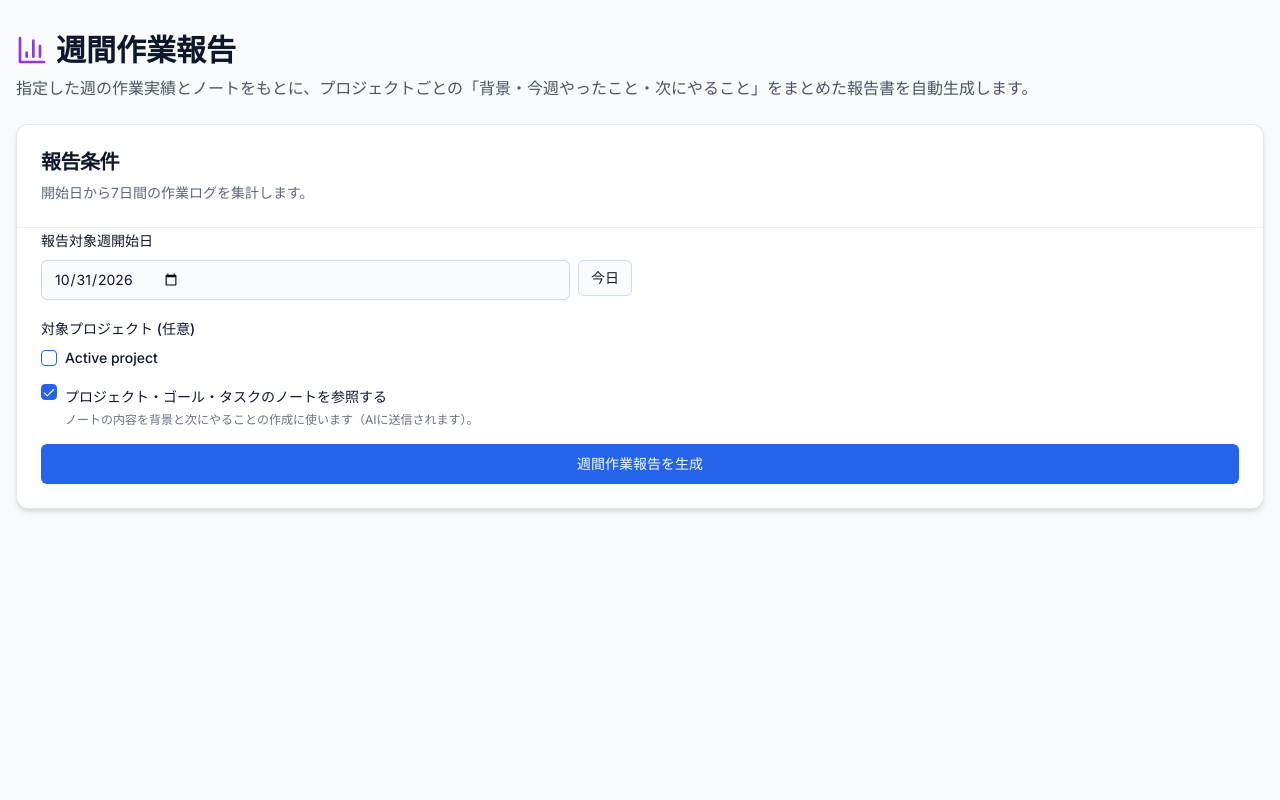
Test case: weekly report page › generates a report for the chosen week and in-progress projects
The image size is (1280, 800).
Step 1. Type "2030-01-07" into the date field labelled "報告対象週開始日" → (306, 280), box [41,260,570,300]
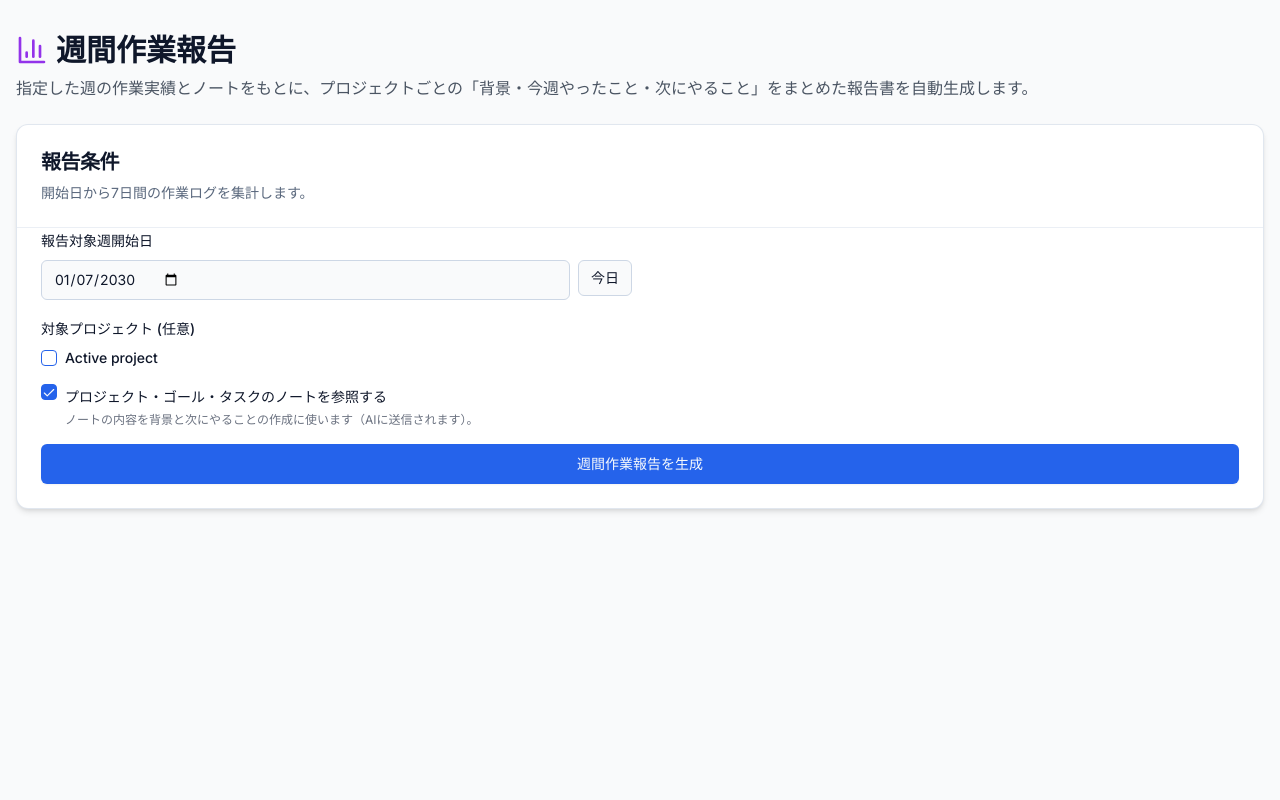
Step 2. Click the checkbox named "Active project" next to "Active project" → (49, 358), box [41,350,57,366]
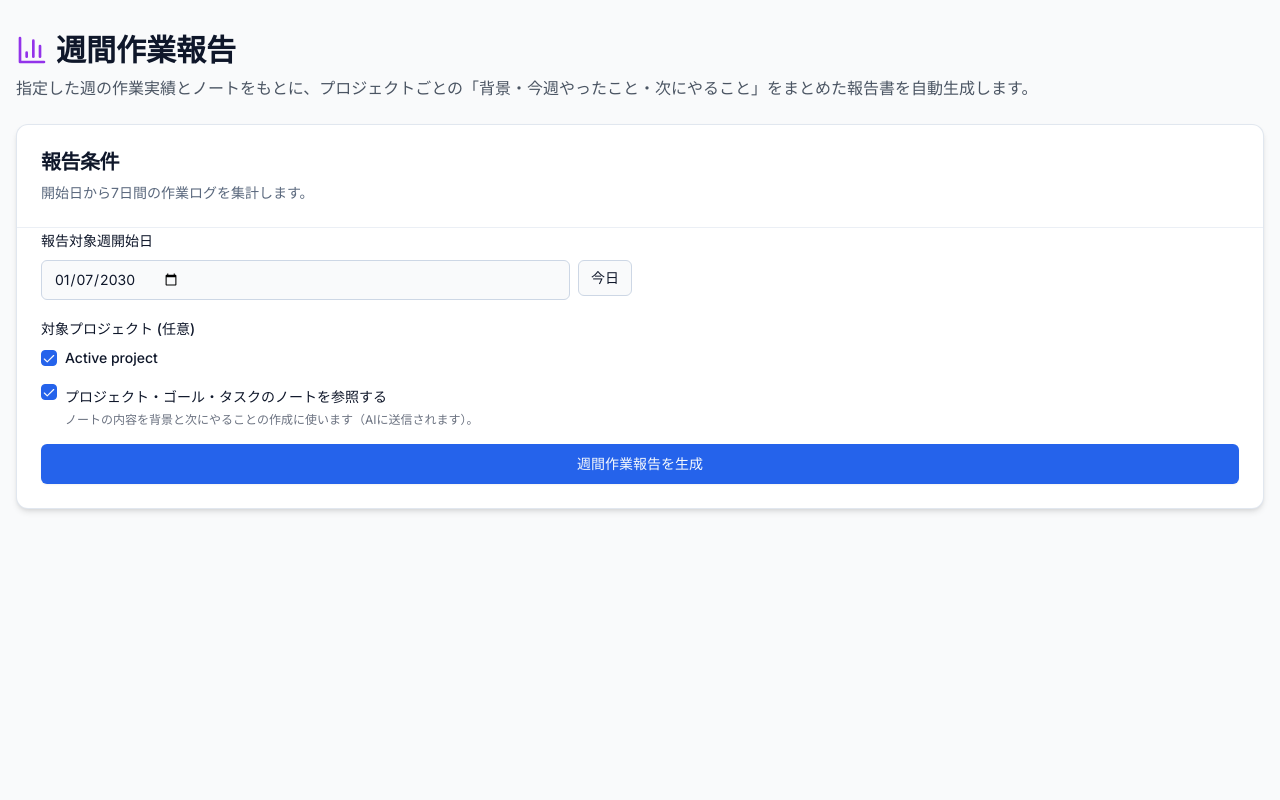
Step 3. Click the button "週間作業報告を生成" → (640, 464), box [41,444,1239,484]
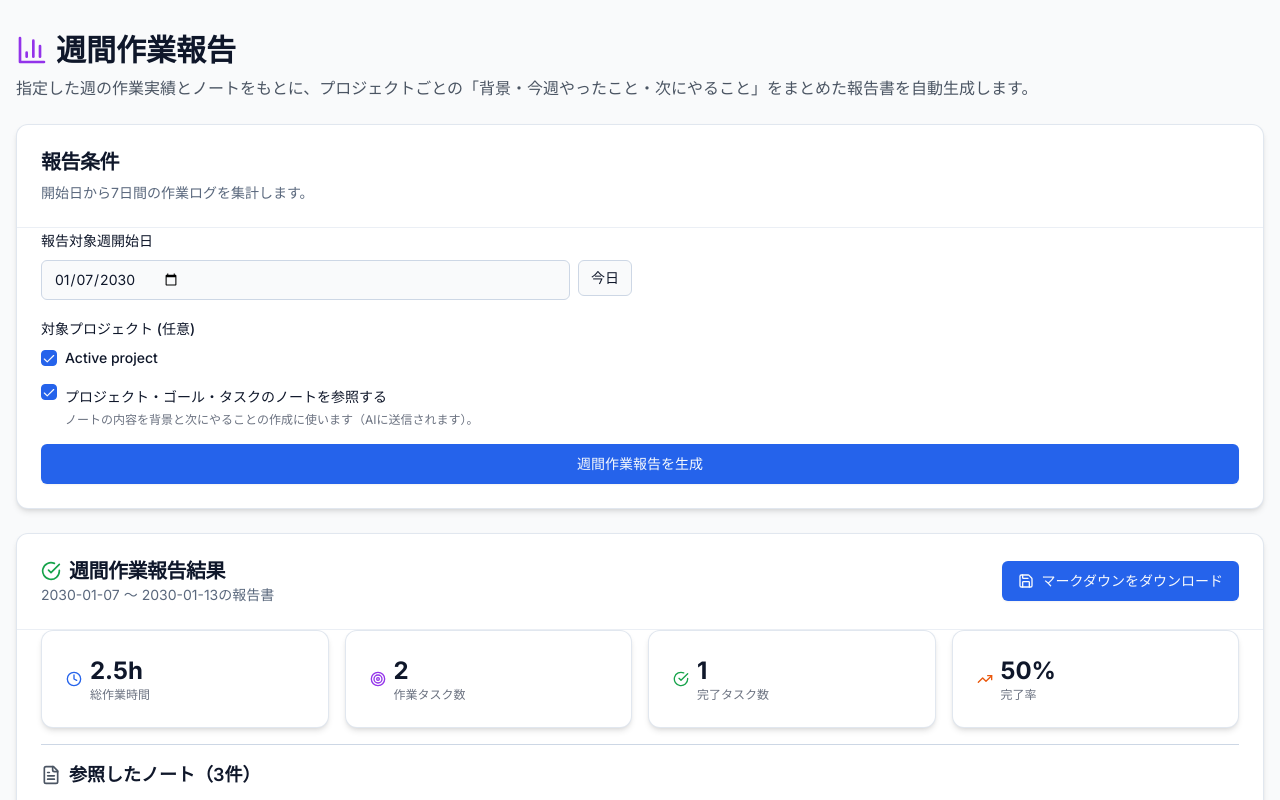
Now the text "2.5h" is shown, box [90,655,150,687]
Now the text "50%" is shown, box [1000,655,1056,687]
Now the button "マークダウンをダウンロード" is shown, box [1002,561,1239,601]
